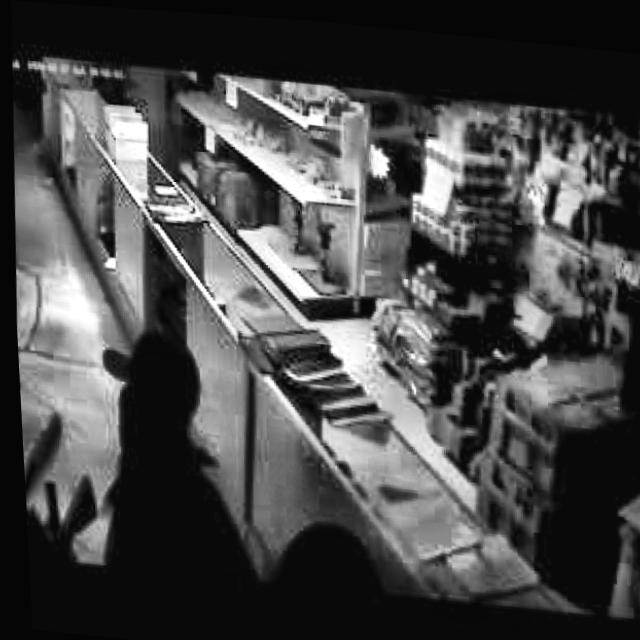burglary: (13, 310, 266, 580)
